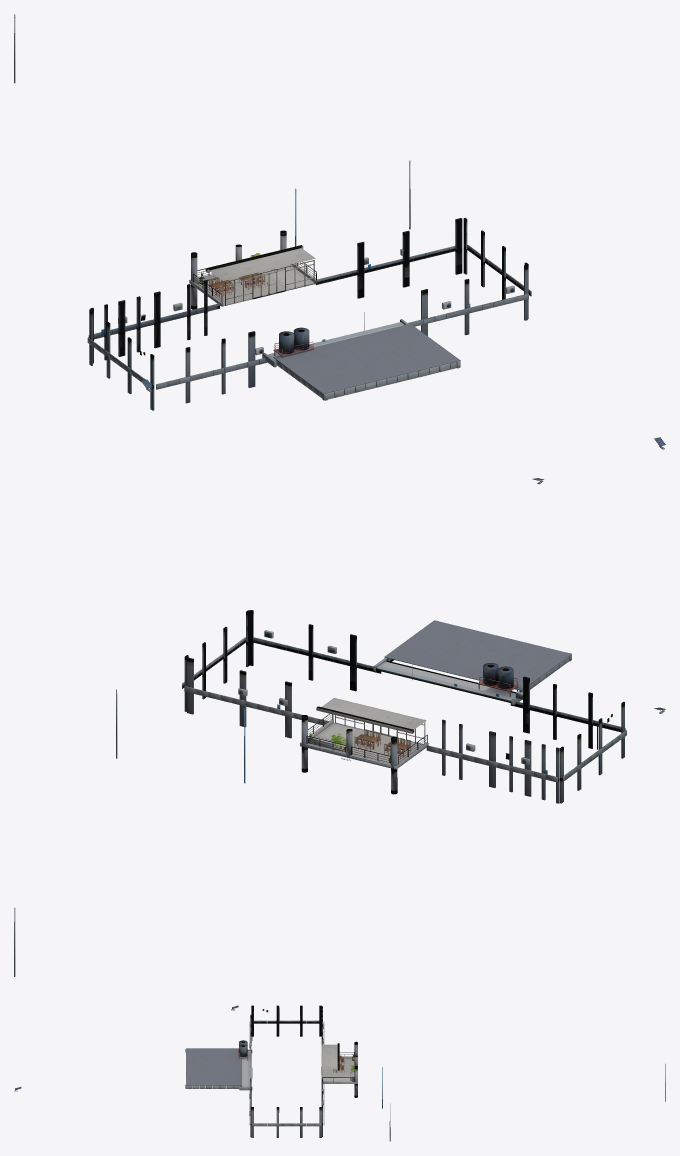
The model's file is world_ext1.glb.
3 renders of one model, top to bottom at view 1: azimuth 30°, elevation 25°; view 2: azimuth 150°, elevation 25°; view 3: azimuth 270°, elevation 25°, orthographic. The views are drawn at different scales.
Visible parts, largest first — view 1: W_ext1; view 2: W_ext1; view 3: W_ext1.
Boxes of the visible parts, x1,y1,x2,y2 form: W_ext1: (14, 14, 665, 449); W_ext1: (14, 478, 665, 976); W_ext1: (14, 1005, 665, 1141).
Bounding box in the file's own units: 40.97 × 7.2 × 103.
1 material, 1 textured.
